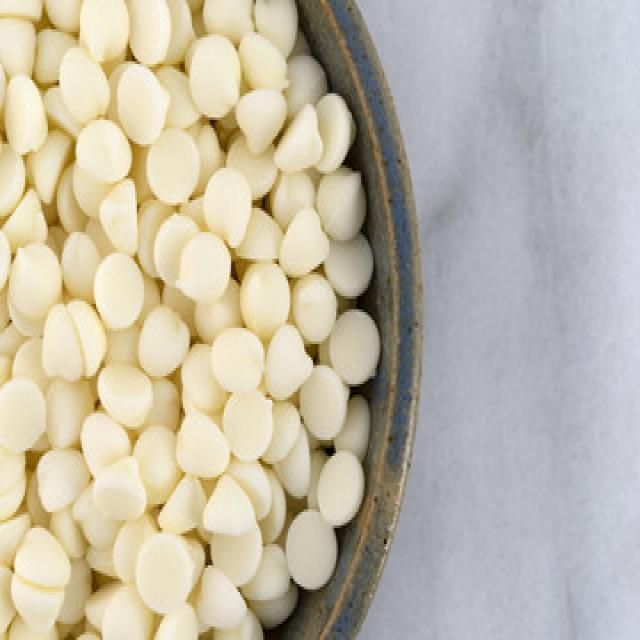chocolate: (0, 0, 385, 640)
